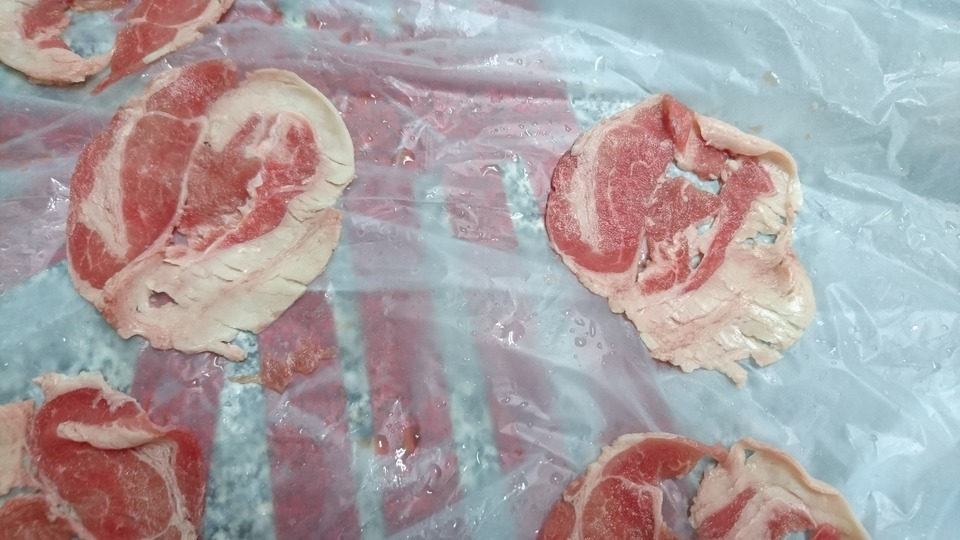restructured meat: (68, 58, 362, 365), (536, 76, 830, 383), (1, 369, 194, 540)
